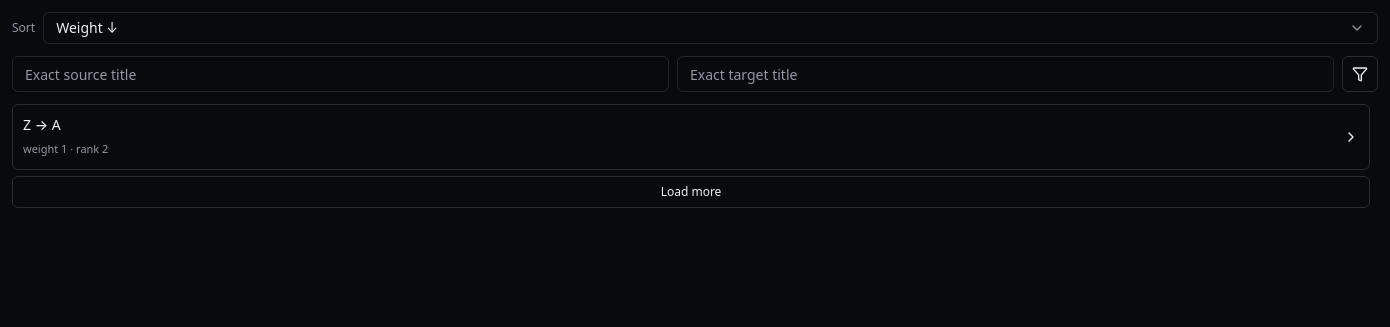
Test: Graph list filter submission › resets Relationship results and requests page one when sort changes
The image size is (1390, 327).
Expected: the text "Z → A" is shown, [23,115,61,134]
Click the dropdown named "Relationship sort". click: (87, 28)
box: [43,12,1378,44]
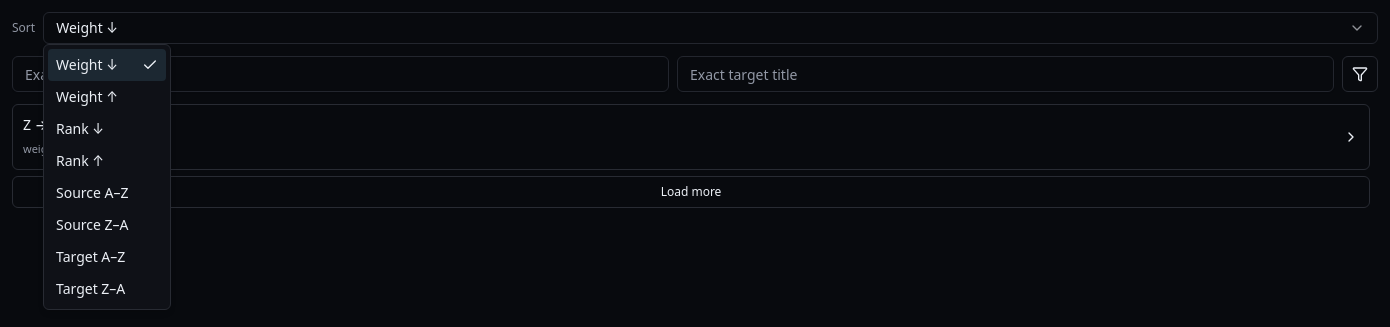
Click the option "Source A–Z". click: (92, 192)
box: [56,183,128,202]
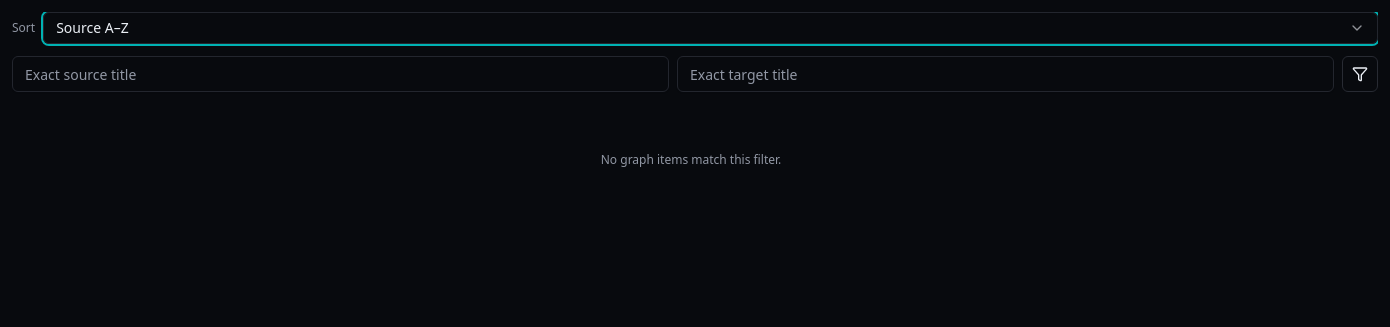
Expected: the button "Z → A" is gone
